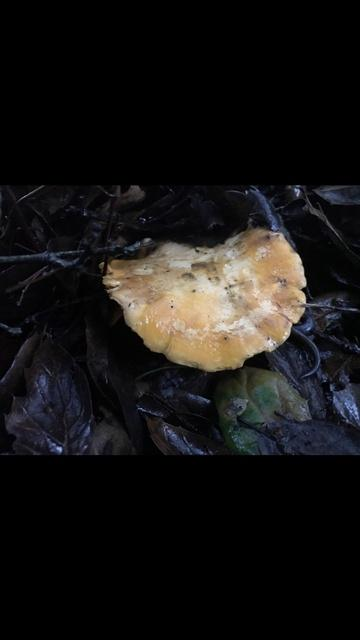edible_mushroom: (99, 223, 308, 373)
